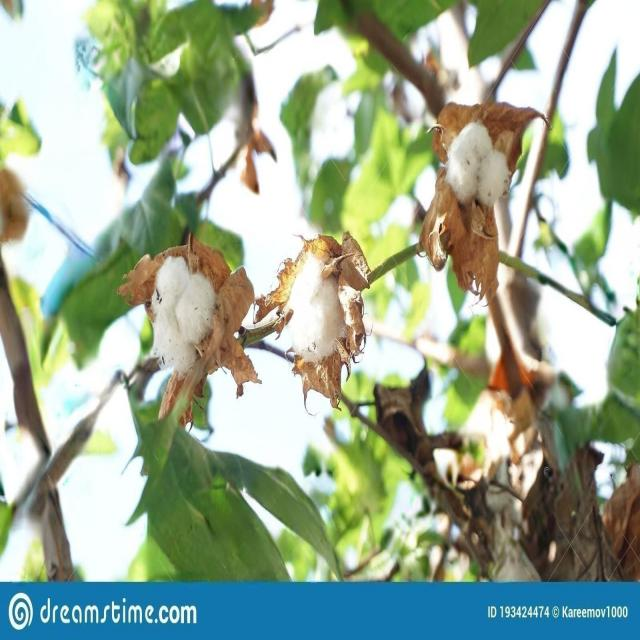Early_blight: (138, 246, 231, 390), (278, 232, 356, 378), (441, 114, 516, 242)
